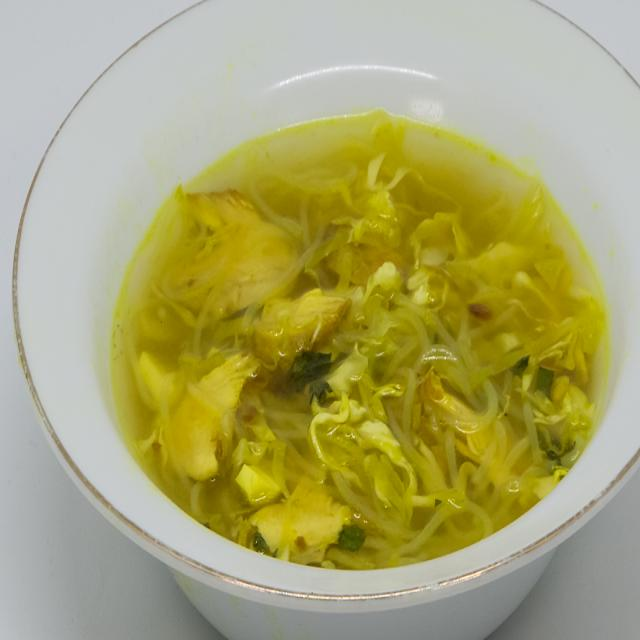Soto-Lamongan: (107, 70, 619, 584)
